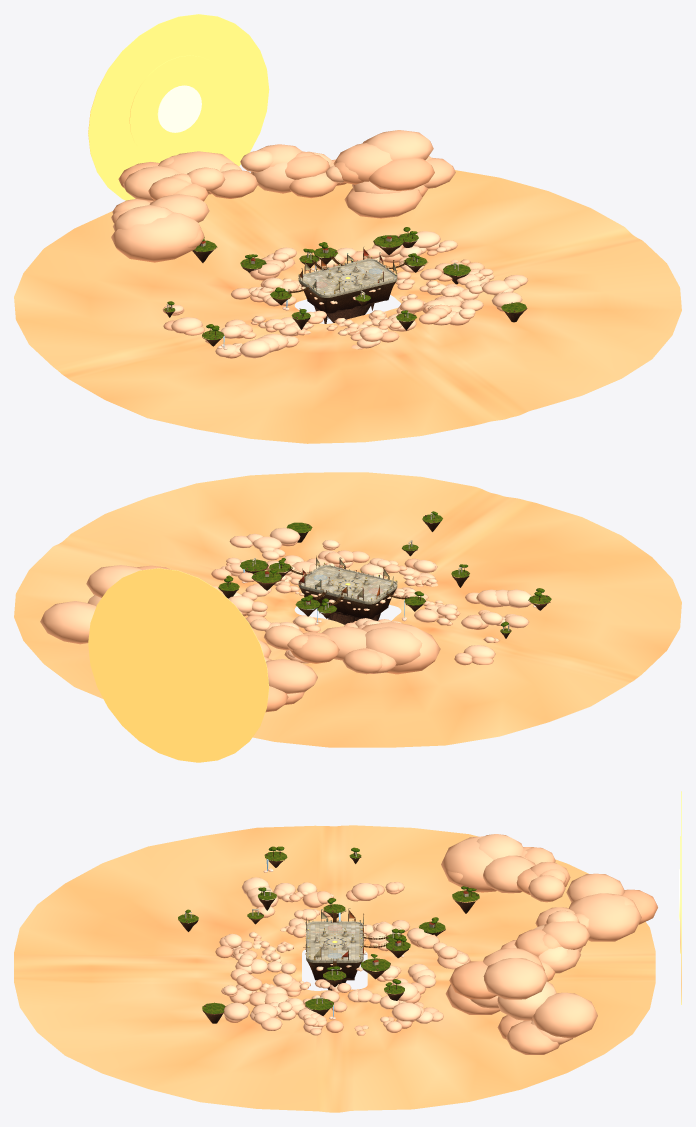
Rendered from arena_sky.glb.
The picture shows the model from 3 angles, top to bottom: view 1: azimuth 30°, elevation 25°; view 2: azimuth 150°, elevation 25°; view 3: azimuth 270°, elevation 25°; orthographic projection. The views are drawn at different scales.
Visible parts, largest first — view 1: Clouds, Sun, Decor, Ground, Walls; view 2: Clouds, Sun, Decor, Ground, Walls; view 3: Clouds, Decor, Ground.
Boxes of the visible parts, x1,y1,x2,y2 form: Clouds: (14, 130, 681, 443); Sun: (88, 14, 269, 200); Decor: (164, 227, 527, 347); Ground: (300, 260, 395, 294); Walls: (298, 257, 397, 297); Clouds: (14, 472, 681, 747); Sun: (88, 568, 269, 762); Decor: (218, 511, 551, 638); Ground: (300, 566, 396, 601); Walls: (298, 563, 397, 604); Clouds: (14, 825, 657, 1112); Decor: (178, 846, 479, 1023); Ground: (307, 922, 362, 961).
Bounding box in the file's own units: 392 × 138 × 387.
19 materials, 12 textured.
